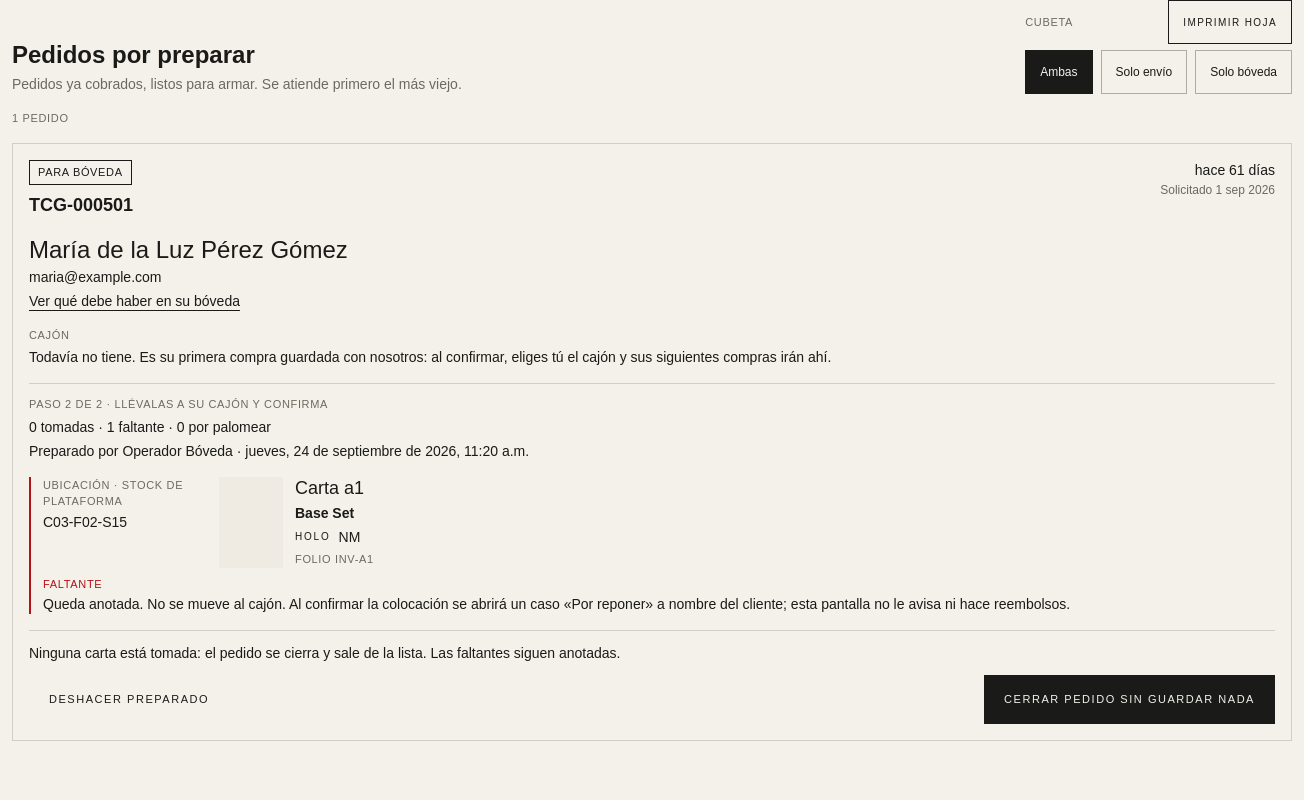
Test case: Tarjeta «Para bóveda» · verbos y respuestas (§36.5–§36.9) › H-4 · paso 2 sin cartas tomadas: ⛔ sin selector, botón «Cerrar pedido sin guardar nada» y `confirm` SIN `locationId`
Expected: the element with test id "vault-summary-vp-1" shows "Ninguna carta está tomada: el pedido se cierra y sale de la lista. Las faltantes siguen anotadas.", [29, 645, 620, 661]
Click the button "Cerrar pedido sin guardar nada". click: (1130, 699)
box: [984, 675, 1275, 724]
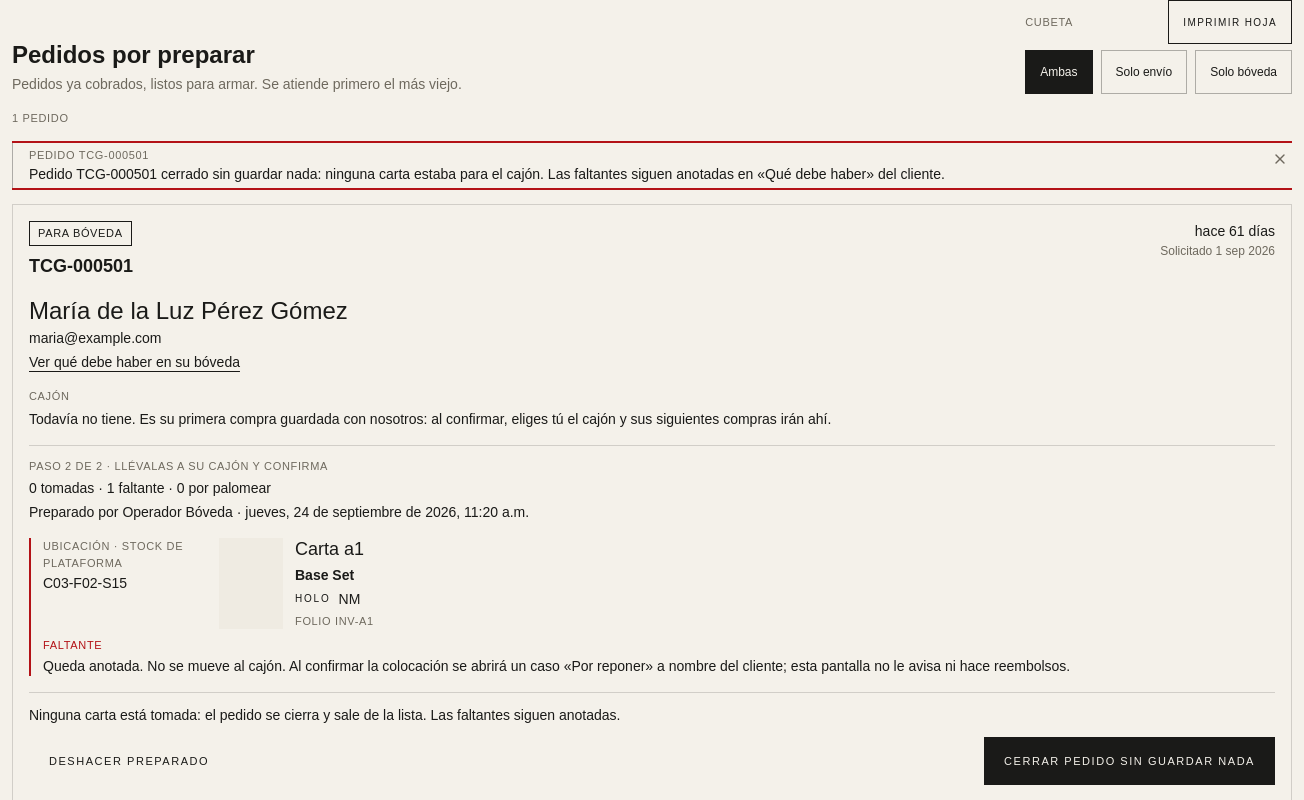
Result: the element with test id "prep-notice" shows "Pedido TCG-000501 cerrado sin guardar nada: ninguna carta estaba para el cajón. Las faltantes siguen anotadas en «Qué debe haber» del cliente." at [29, 166, 945, 182]
